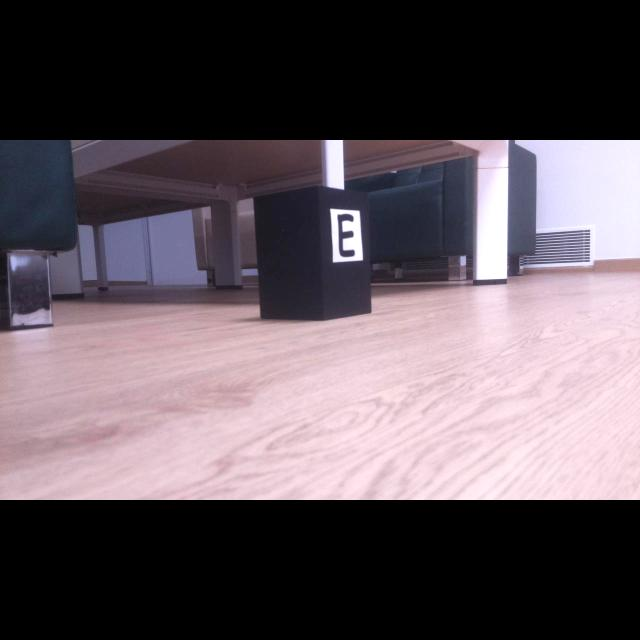E: (338, 214, 355, 257)
